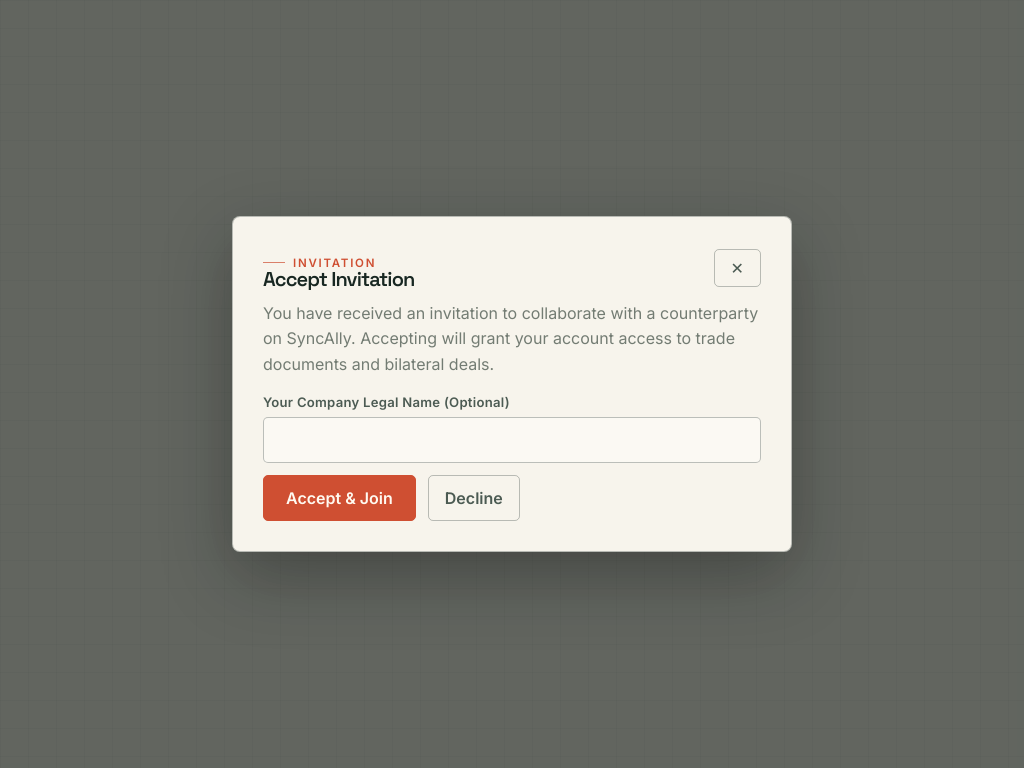
Test: OrganizationsSettingsPage › keeps the accept outcome when the hash changes but the token is unchanged
Click the button "Accept & Join" at (339,498), box [263,475,416,521]
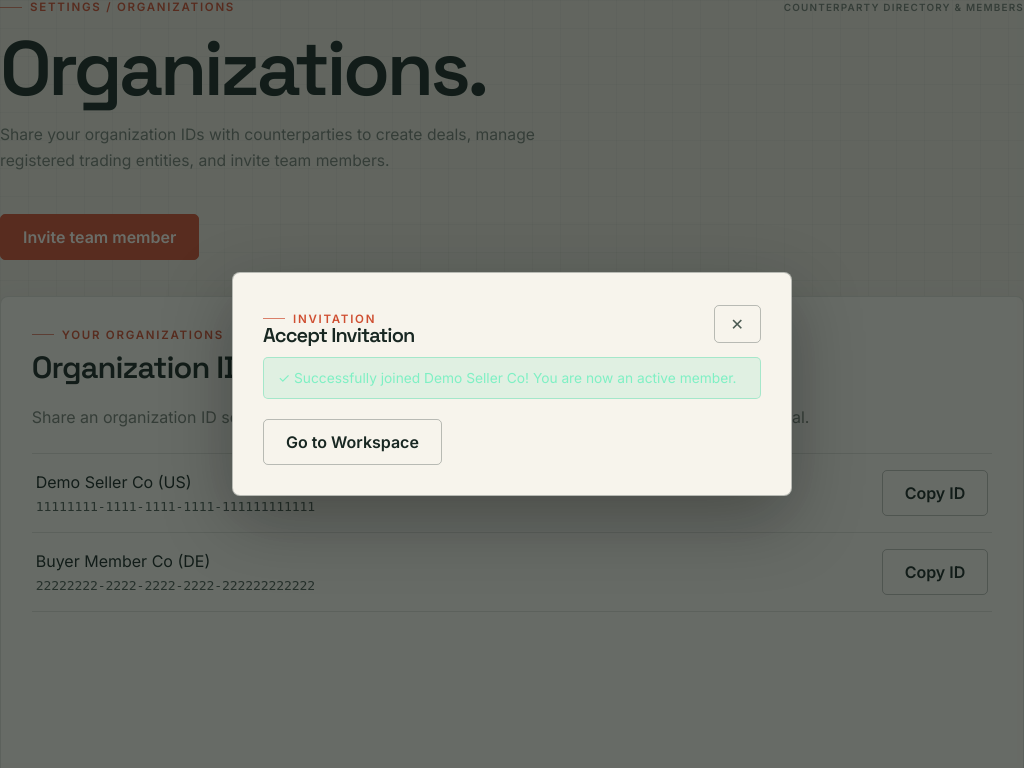
expect the text "✓ Successfully joined Demo Seller Co! You are now an active member." is shown: met, box [263,357,761,399]
